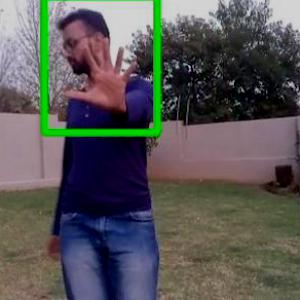follow_hand: (60, 34, 142, 113)
